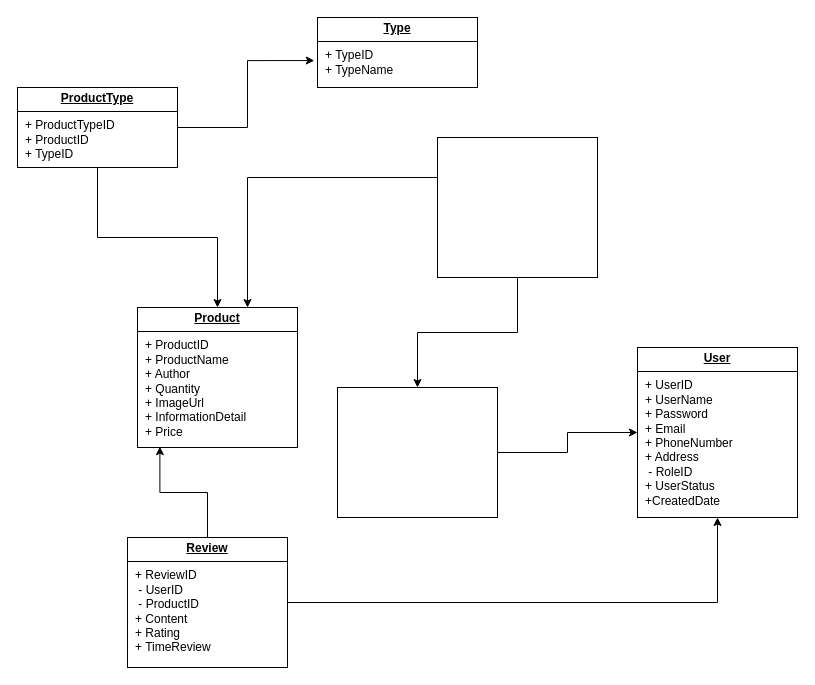
The diagram is 815 pixels wide and 685 high, and some of its shapes have lost their labels. The centre of each missing label's shape, as x and y in pixels:
"Order + OrderID - UserID + TotalPrice + TimeOrder + Note + OrderStatus" goes at (x=417, y=452).
"OrderDetail + OrderDetailID + Quantity + Price - OrderID - ProductID" goes at (x=517, y=207).
